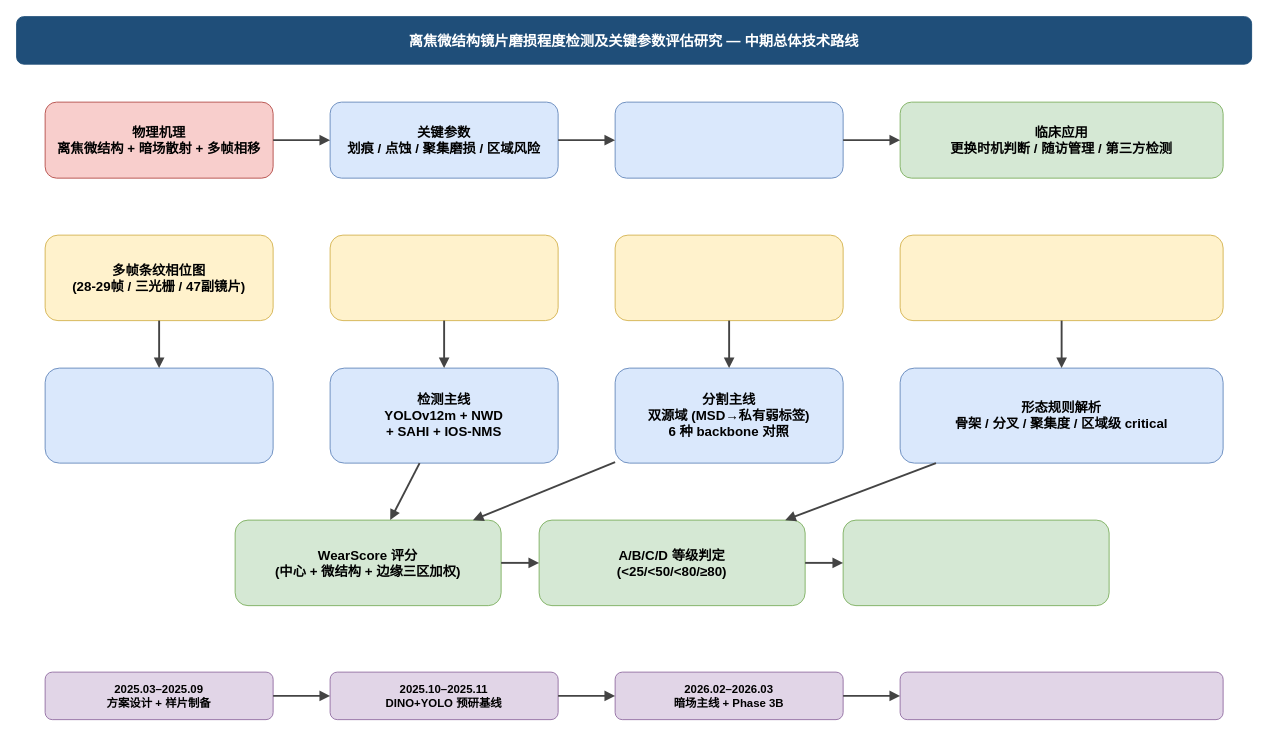
The diagram is 1268 pixels wide and 736 high, and some of its shapes have lost their labels. Each missing label, with the centre of its shape:
2026.03–2026.04 分割主线 + 问题重定义: pixel 1061 695
GUI 预发布版本 (检测+热力图+评分卡): pixel 975 562
可量化指标 L_center / N / A / S_scatter / WearScore: pixel 728 139
弱标签 + 多模型一致性伪标签 (Frangi/TopHat + FPN/Unet++/SegFormer/HRNet): pixel 1061 277
暗场显微图 (247张 4096x3000 灰度BMP): pixel 443 277
物理标定 6.8 um/pixel = 0.0068 mm/pixel: pixel 728 277
经典统计算法 DC / σ / 一阶DFT / 残差MAD: pixel 158 415
